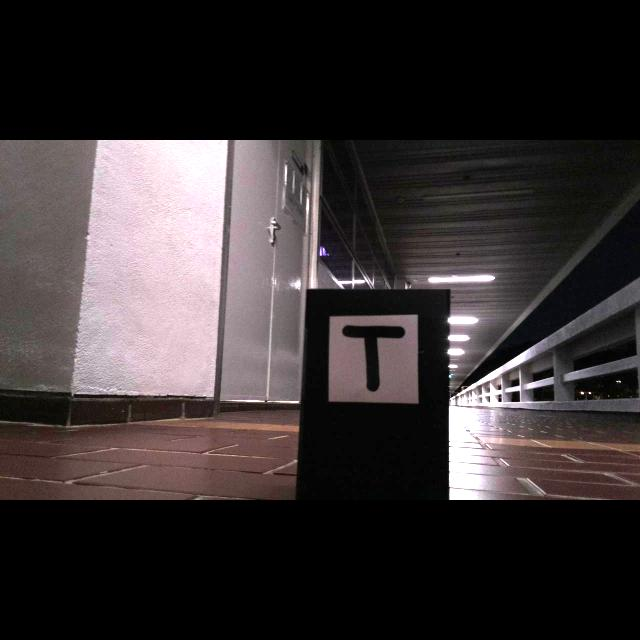T: (343, 325, 405, 392)
